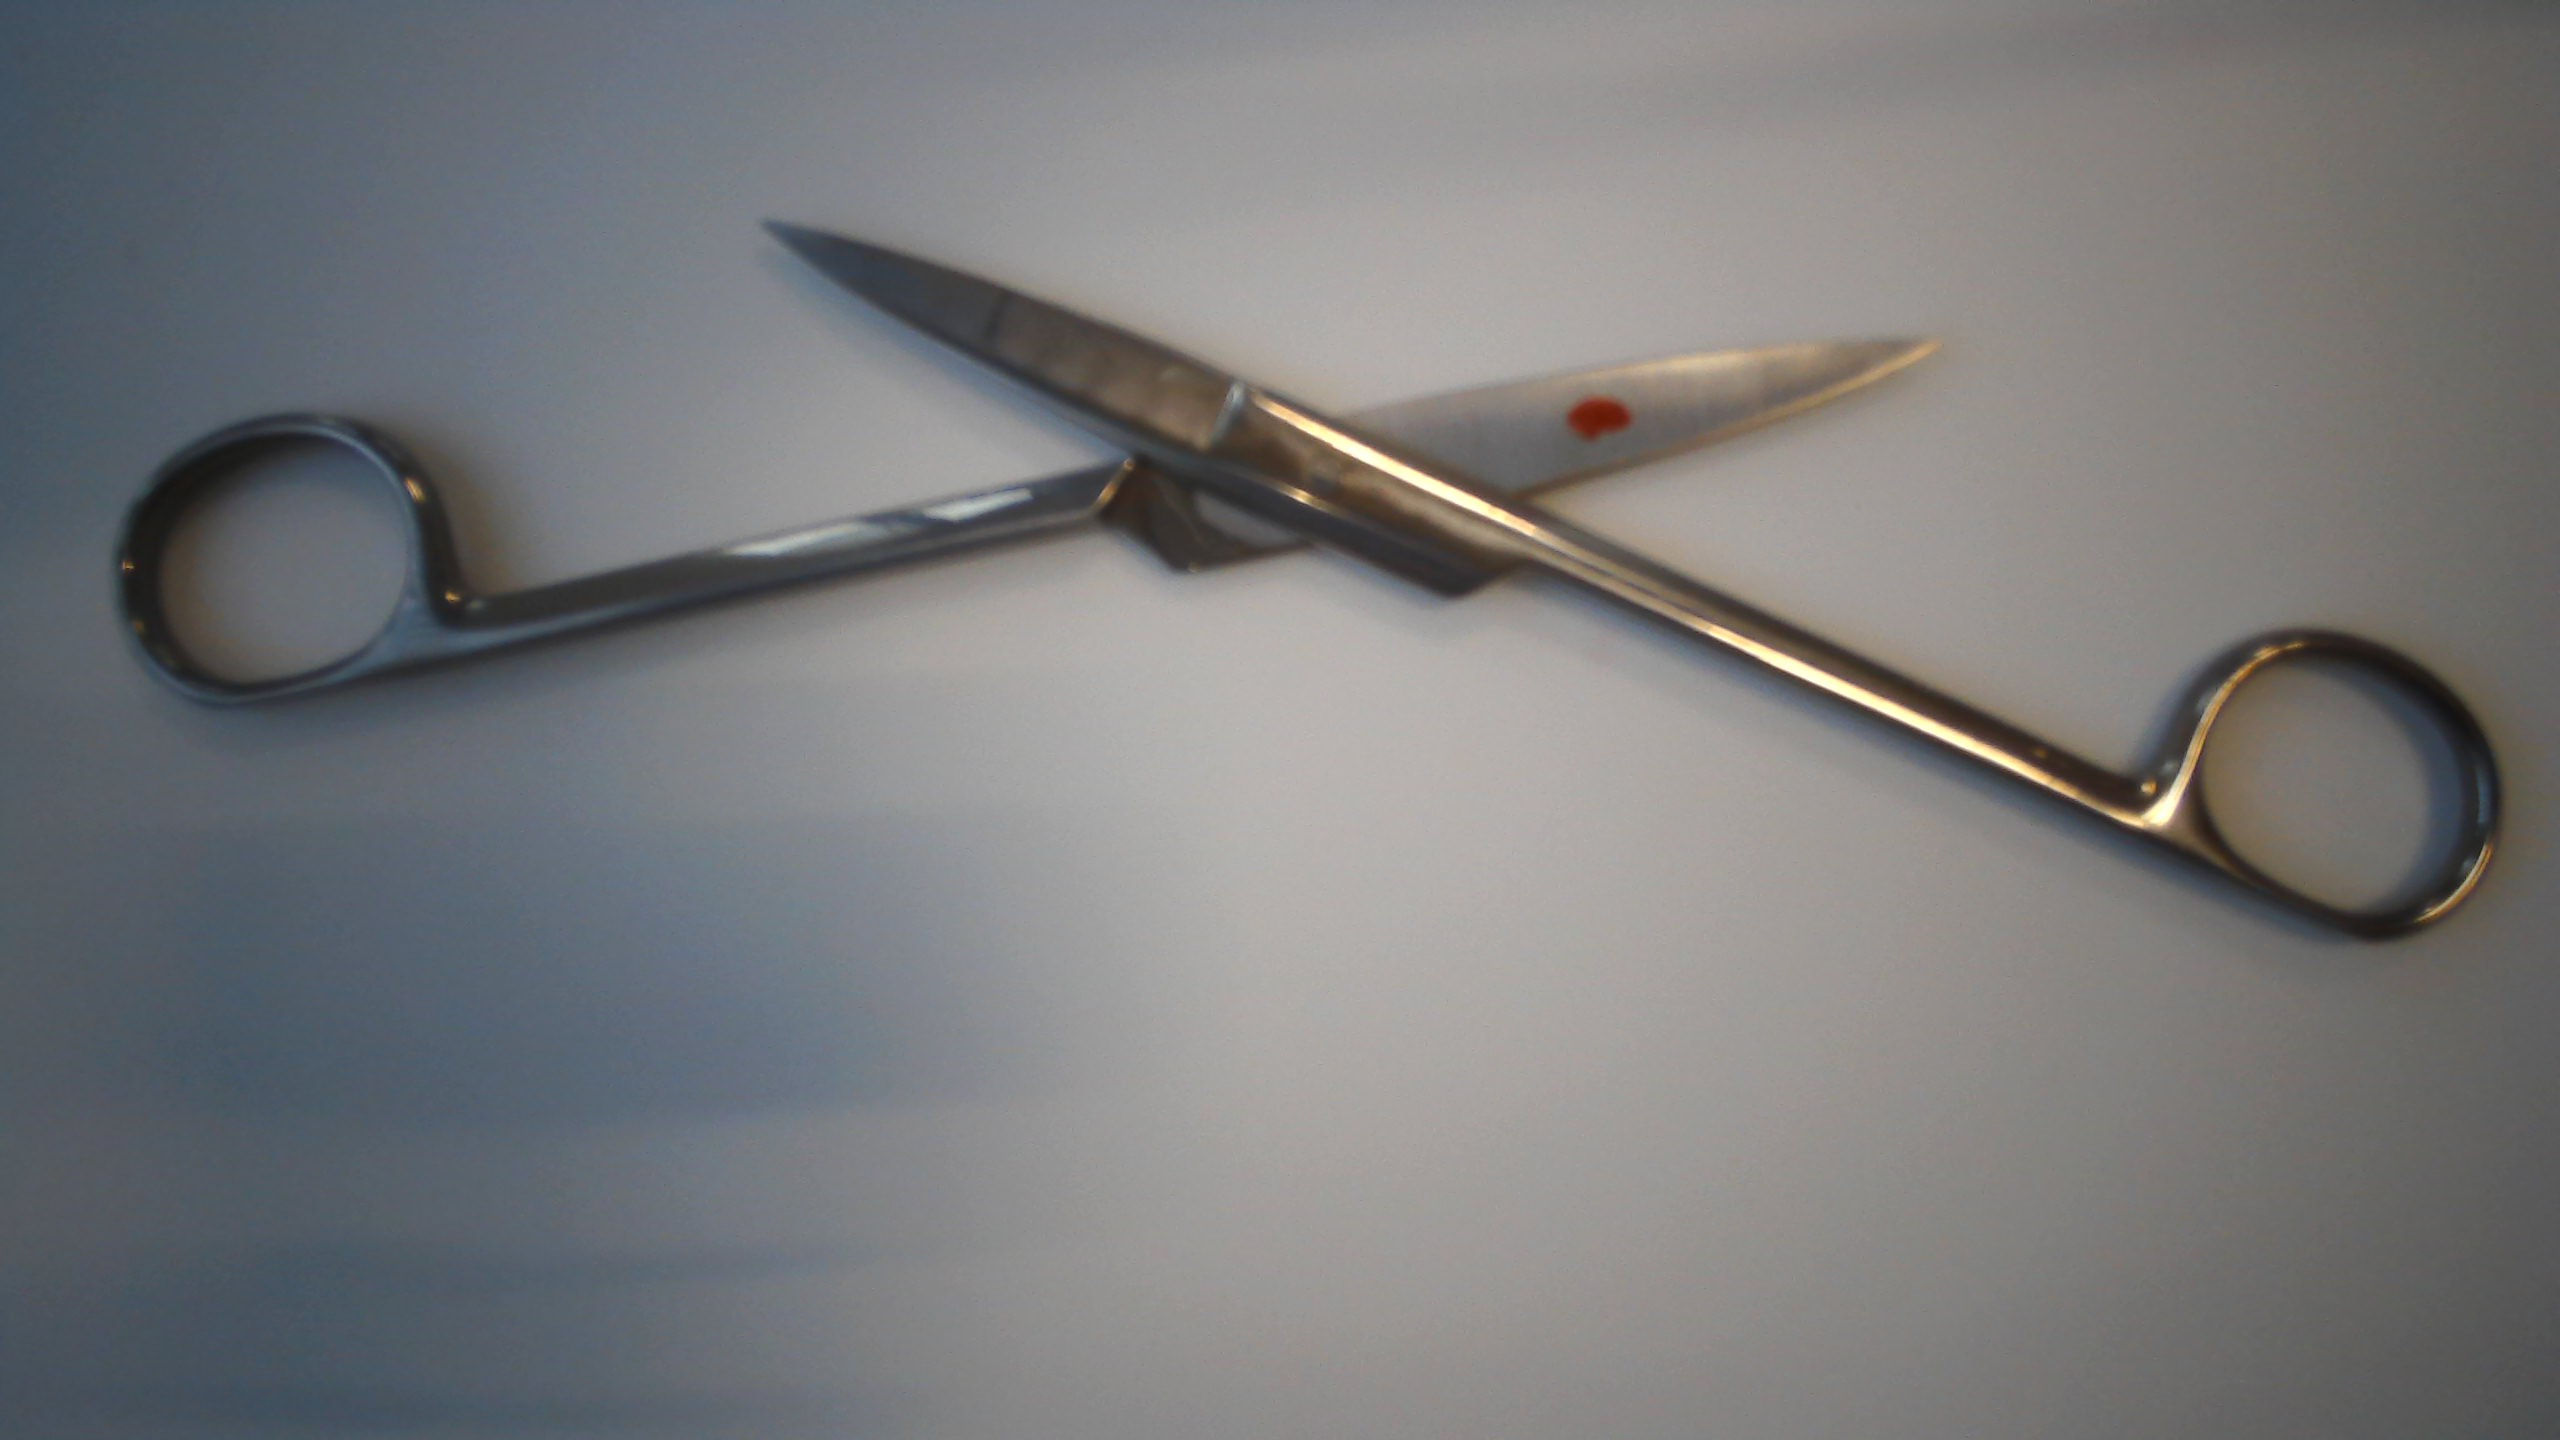Stain: (1565, 394, 1644, 450)
